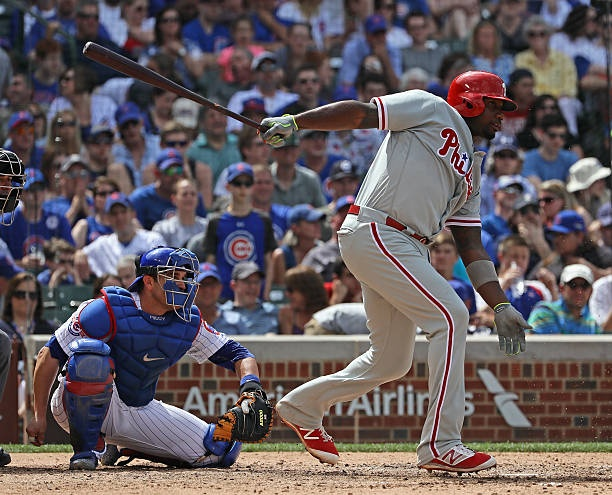bita: (81, 41, 286, 137)
